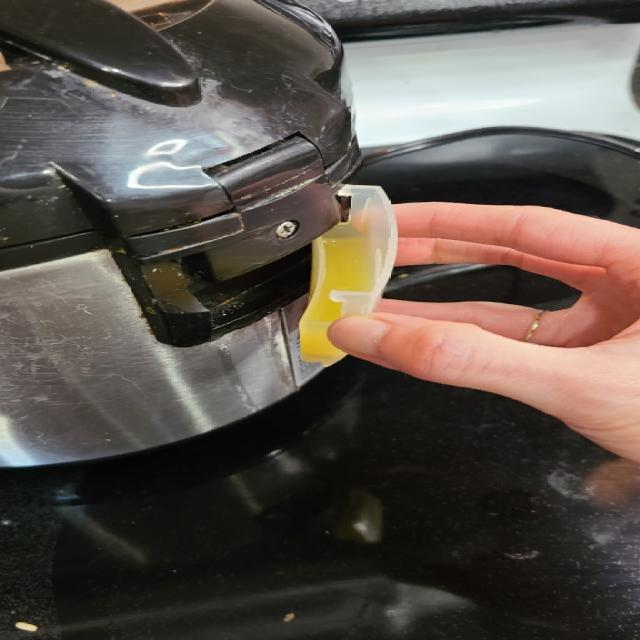appliances: (0, 0, 358, 466), (132, 6, 134, 8)
